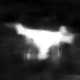plane: (9, 20, 76, 64)
